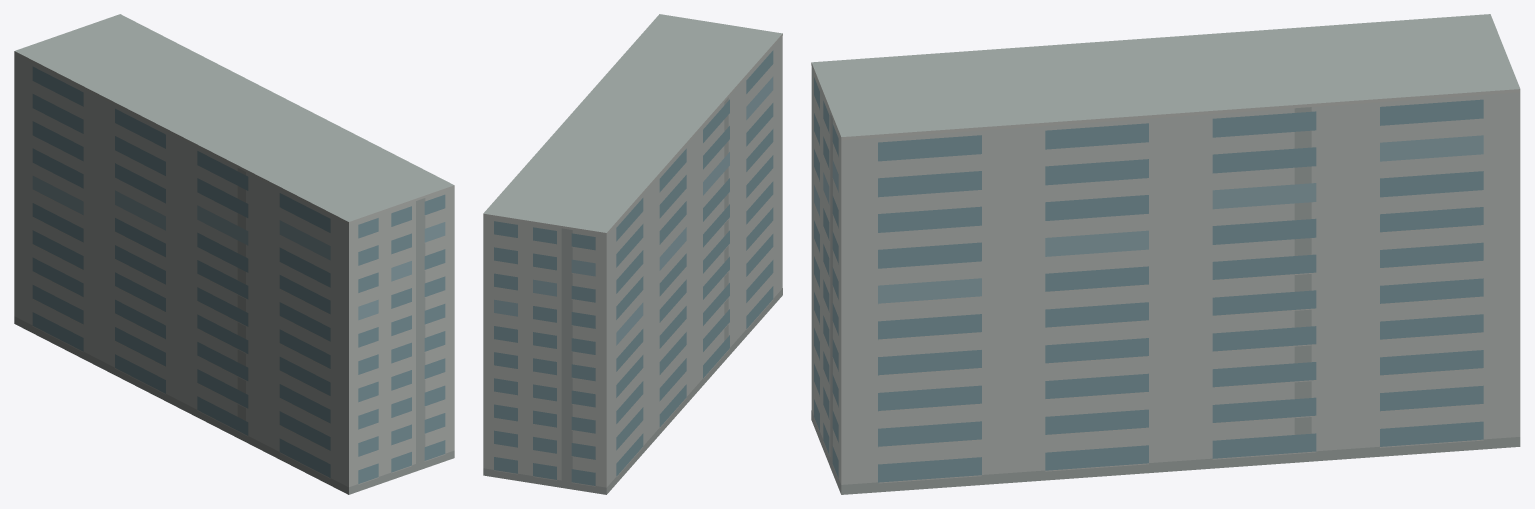
Rendered from residential-b4ac8a7b-5870-4c40-a3bc-171a8170018a.glb.
The picture shows the model from 3 angles, left to right: view 1: azimuth 30°, elevation 25°; view 2: azimuth 150°, elevation 25°; view 3: azimuth 270°, elevation 25°; orthographic projection. The views are drawn at different scales.
Visible parts, largest first — view 1: residential-b4ac8a7b-5870-4c40-a3bc-171a8170018a.tmp; view 2: residential-b4ac8a7b-5870-4c40-a3bc-171a8170018a.tmp; view 3: residential-b4ac8a7b-5870-4c40-a3bc-171a8170018a.tmp.
Part boxes in pixels (x1,y1,x2,y2): residential-b4ac8a7b-5870-4c40-a3bc-171a8170018a.tmp: [14, 14, 454, 494]; residential-b4ac8a7b-5870-4c40-a3bc-171a8170018a.tmp: [483, 14, 782, 494]; residential-b4ac8a7b-5870-4c40-a3bc-171a8170018a.tmp: [811, 14, 1520, 494].
Size of the model in its own units: 19.95 by 27 by 48.5.
